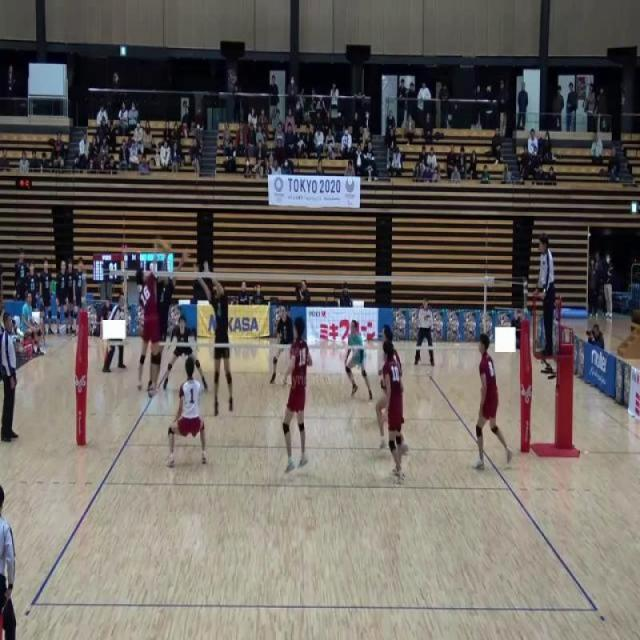volleyball: (153, 236, 172, 254)
